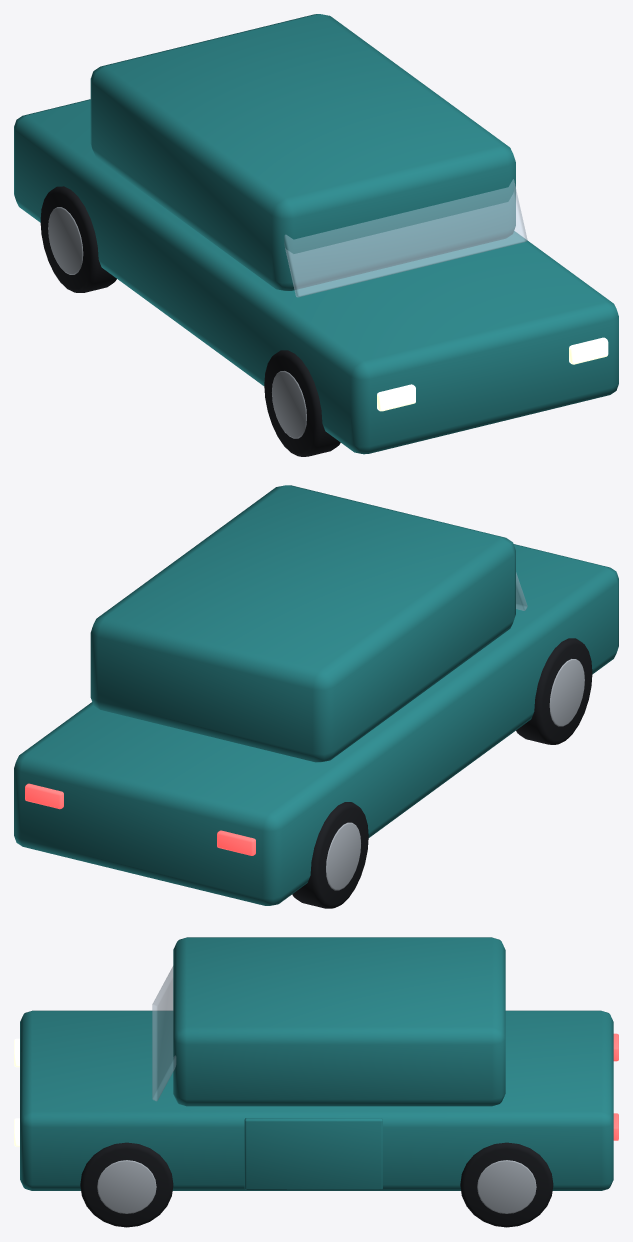
The model's file is car-hatch-5e445d1293da.glb.
The picture shows the model from 3 angles, top to bottom: view 1: azimuth 30°, elevation 25°; view 2: azimuth 150°, elevation 25°; view 3: azimuth 270°, elevation 25°; orthographic projection. The views are drawn at different scales.
Visible parts, largest first — view 1: Driver_Door_Panel, Windshield, Tire_-0.8004_-1.264, Alloy_-0.8004_-1.264, Mesh_LED_Street_Warm; view 2: Driver_Door_Panel, Tire_-0.8004_-1.264, Alloy_-0.8004_-1.264, Mesh_Signal_Red; view 3: Driver_Door_Panel, Tire_-0.8004_-1.264, Alloy_-0.8004_-1.264, Windshield.
Boxes of the visible parts, <box> form: Driver_Door_Panel: <box>14,14,618,454</box>; Windshield: <box>284,179,527,297</box>; Tire_-0.8004_-1.264: <box>40,186,340,456</box>; Alloy_-0.8004_-1.264: <box>48,207,306,438</box>; Mesh_LED_Street_Warm: <box>377,337,608,411</box>; Driver_Door_Panel: <box>14,485,618,905</box>; Tire_-0.8004_-1.264: <box>292,638,592,908</box>; Alloy_-0.8004_-1.264: <box>326,659,584,890</box>; Mesh_Signal_Red: <box>25,783,255,855</box>; Driver_Door_Panel: <box>20,937,613,1190</box>; Tire_-0.8004_-1.264: <box>80,1142,553,1227</box>; Alloy_-0.8004_-1.264: <box>97,1160,536,1213</box>; Windshield: <box>152,966,175,1101</box>.
Bounding box in the file's own units: 1.82 × 1.39 × 4.03.
